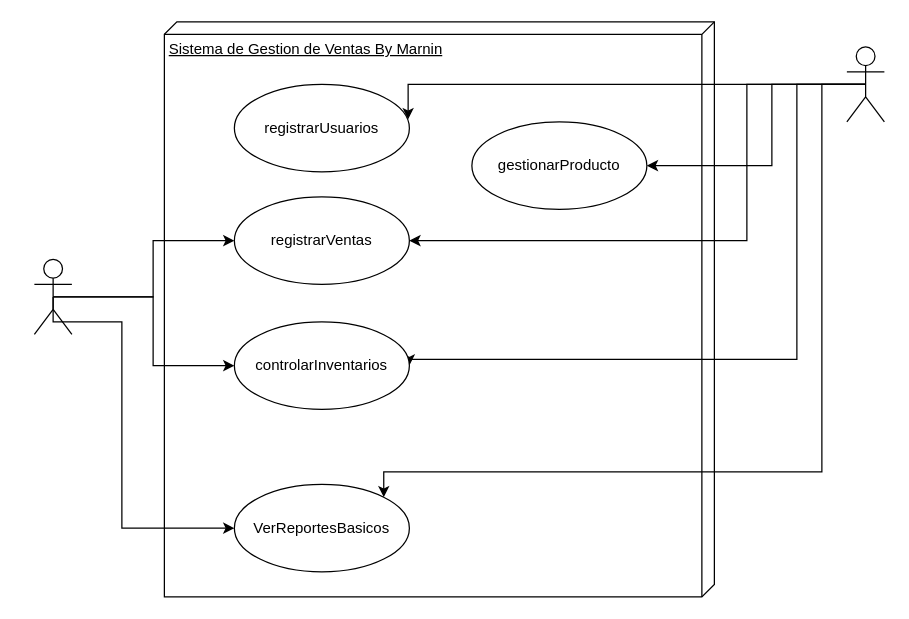
Some shapes in this 909 by 619 pixel diagram are drawn without their labels. The box of each missing label's shape, as (x1, y1, x2, y2) in pixels:
Admin: (846, 46, 884, 122)
Vendedor: (33, 258, 72, 334)
